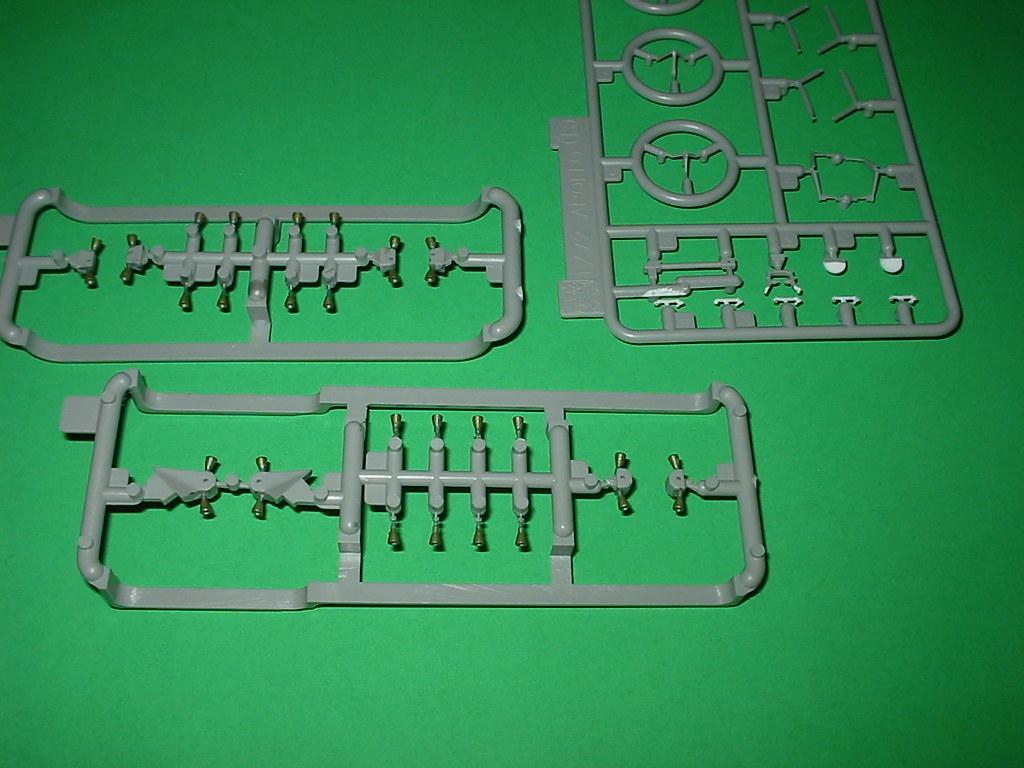thruster: (250, 497, 268, 521), (198, 495, 215, 519), (388, 412, 404, 437), (282, 291, 300, 312), (202, 453, 220, 474), (385, 527, 403, 548), (615, 492, 632, 514), (427, 527, 444, 549), (430, 412, 445, 436), (470, 530, 488, 550), (513, 530, 531, 550), (118, 265, 137, 283), (176, 291, 193, 311), (672, 495, 689, 515), (612, 450, 629, 469), (254, 454, 271, 473), (215, 291, 231, 311), (321, 291, 337, 311), (511, 415, 527, 435), (471, 414, 486, 435), (423, 268, 440, 286), (386, 268, 402, 287), (225, 209, 243, 225), (667, 452, 683, 470), (190, 210, 209, 225), (290, 209, 306, 226), (387, 234, 404, 250), (88, 236, 105, 252), (81, 271, 98, 287), (423, 234, 441, 249), (327, 210, 342, 225), (125, 232, 140, 247)
